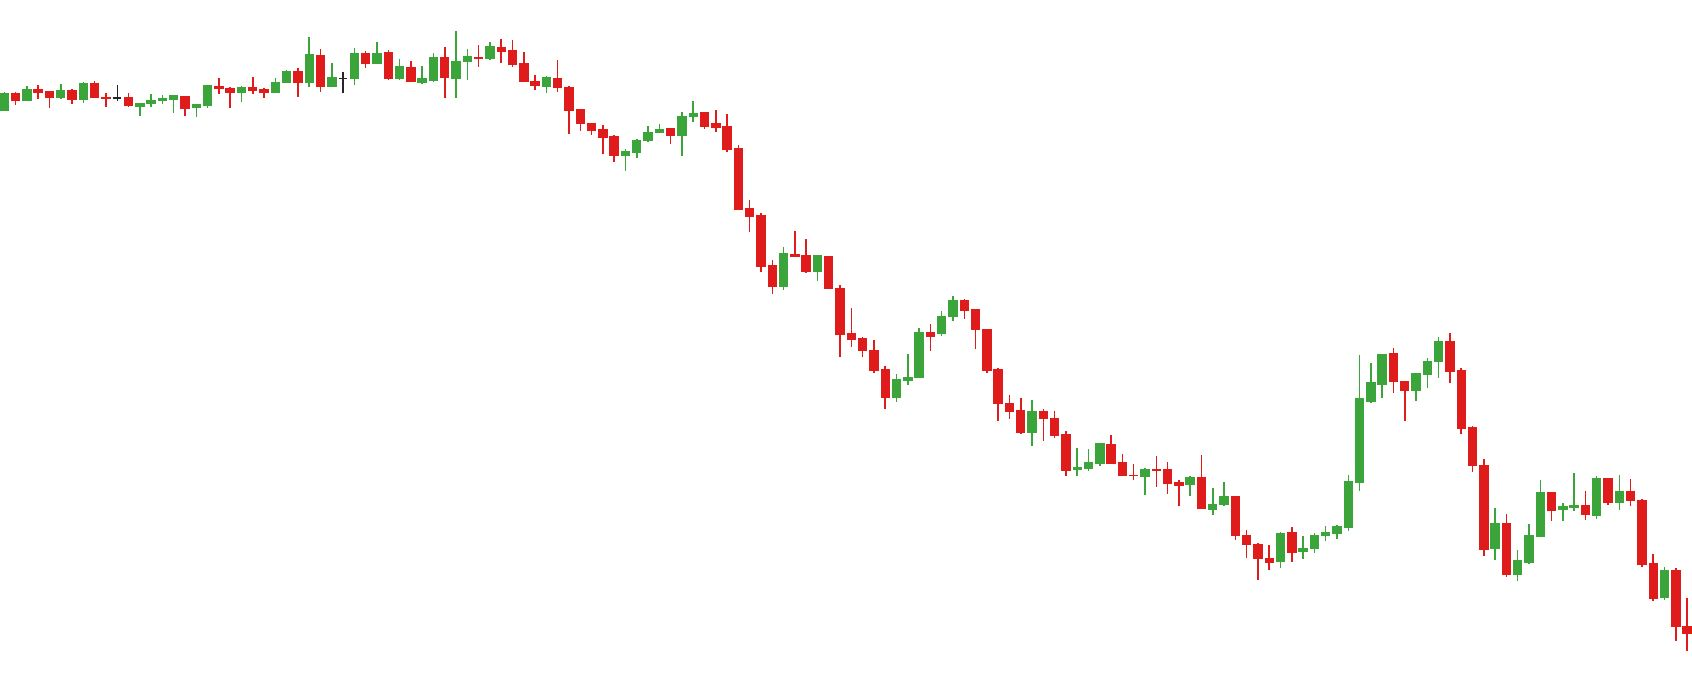sell: (1375, 329, 1457, 398)
